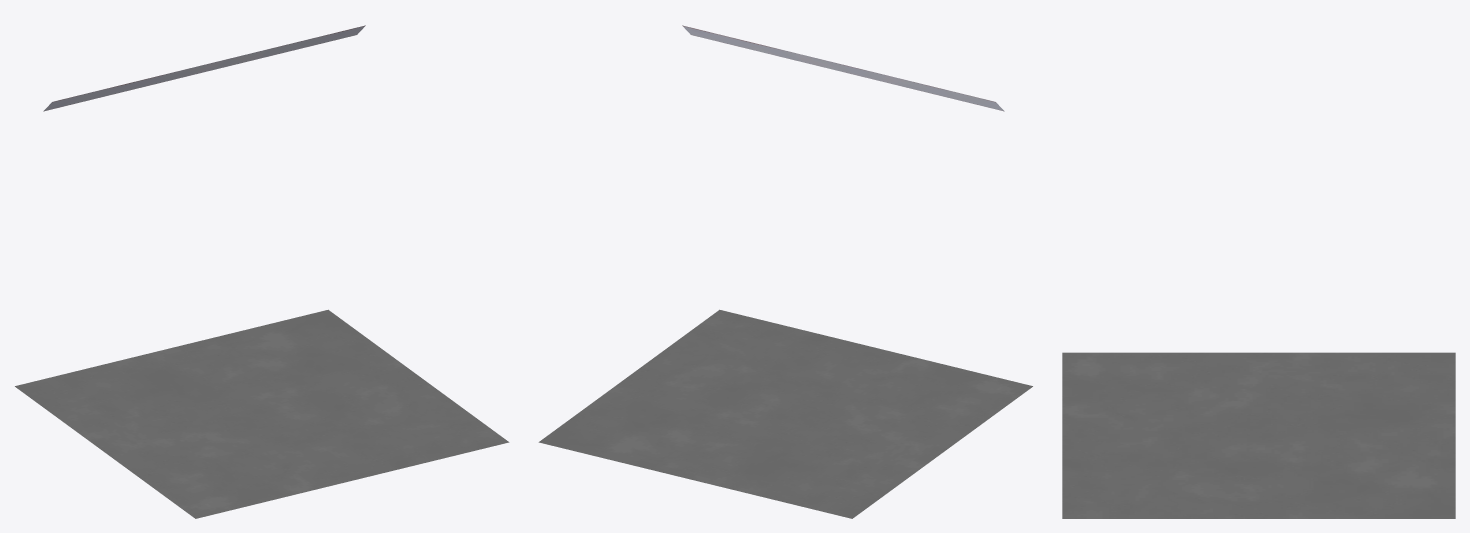
File: Room_2.glb
The picture shows the model from 3 angles, left to right: view 1: azimuth 30°, elevation 25°; view 2: azimuth 150°, elevation 25°; view 3: azimuth 270°, elevation 25°; orthographic projection. The views are drawn at different scales.
Parts seen in each view (by area): view 1: Room_2; view 2: Room_2; view 3: Room_2.
Boxes of the visible parts, bbox=[...] form: Room_2: bbox=[15, 25, 509, 518]; Room_2: bbox=[538, 25, 1032, 518]; Room_2: bbox=[1062, 352, 1455, 518].
Size of the model in its own units: 6 by 5.7 by 6.
Materials: 2 (2 with a texture image).
